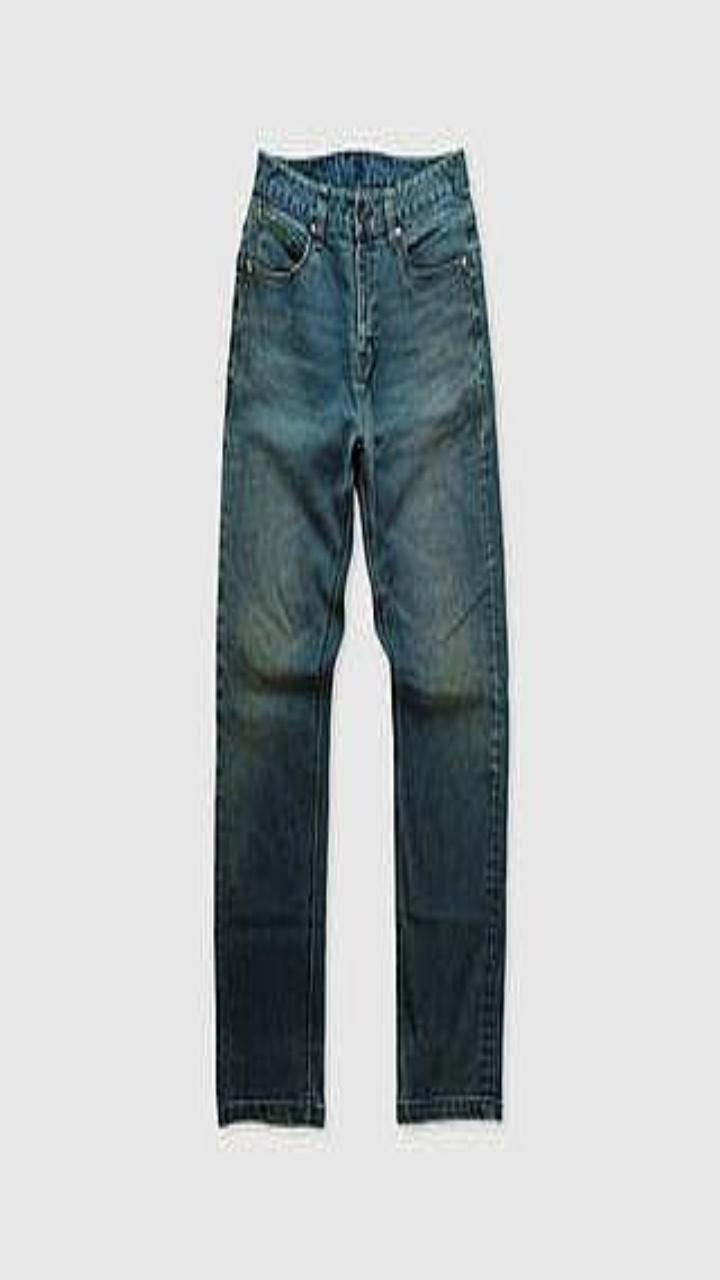Jeans: (215, 150, 507, 1125)
